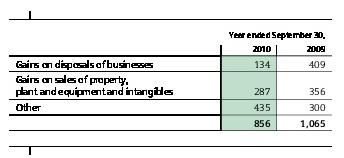table: (0, 0, 344, 158)
